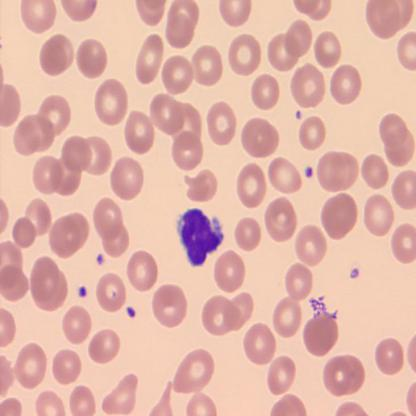Lymphocyte: (177, 208, 224, 267)
